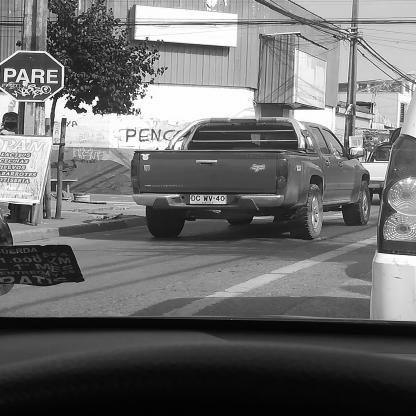Patente: (184, 191, 230, 209)
